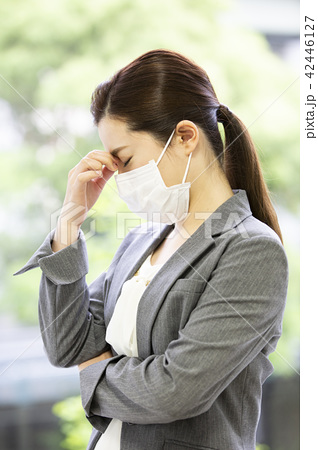mask: (93, 168, 201, 240)
